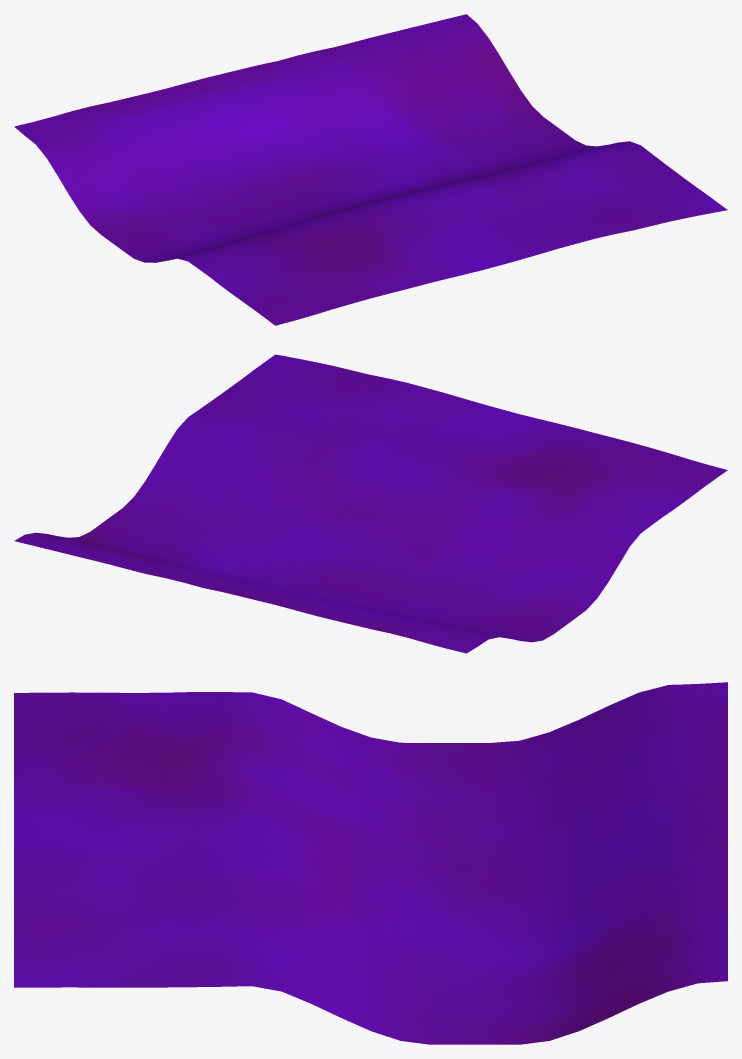
The model's file is ground_52.glb.
3 views of the same model, one above another, from view 1: azimuth 30°, elevation 25°; view 2: azimuth 150°, elevation 25°; view 3: azimuth 270°, elevation 25° (orthographic). The views are drawn at different scales.
Visible parts, largest first — view 1: Ground_52; view 2: Ground_52; view 3: Ground_52.
Part boxes in pixels (bbox=[...]): Ground_52: bbox=[14, 14, 727, 325]; Ground_52: bbox=[14, 354, 727, 653]; Ground_52: bbox=[14, 682, 727, 1044].
Size of what is drawn, in the model's own units: 24 by 2.36 by 24.
